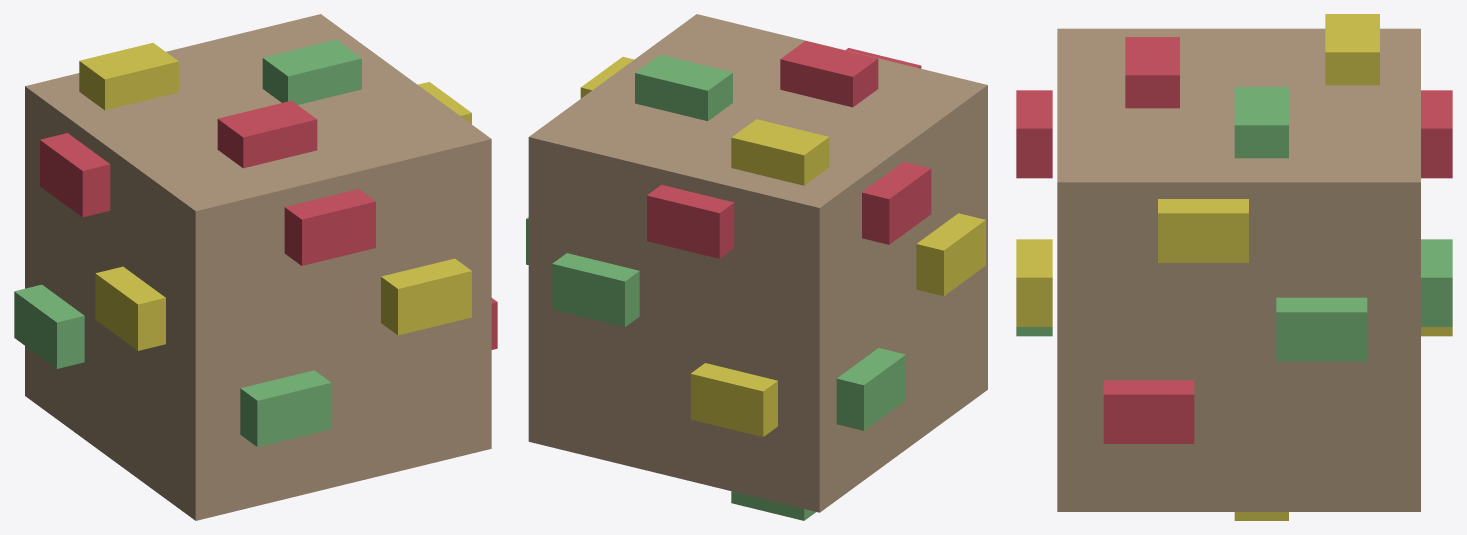
Rendered from jewel_ground.glb.
3 renders of one model, left to right at view 1: azimuth 30°, elevation 25°; view 2: azimuth 150°, elevation 25°; view 3: azimuth 270°, elevation 25°, orthographic. The views are drawn at different scales.
Visible parts, largest first — view 1: Mesh_Mesh_head_geo.001_lambert2SG.001; view 2: Mesh_Mesh_head_geo.001_lambert2SG.001; view 3: Mesh_Mesh_head_geo.001_lambert2SG.001.
Part boxes in pixels (<box>): Mesh_Mesh_head_geo.001_lambert2SG.001: <box>14,14,497,520</box>; Mesh_Mesh_head_geo.001_lambert2SG.001: <box>526,14,987,520</box>; Mesh_Mesh_head_geo.001_lambert2SG.001: <box>1016,14,1452,520</box>.
Size of the model in its own units: 2.38 by 2.4 by 2.4.
